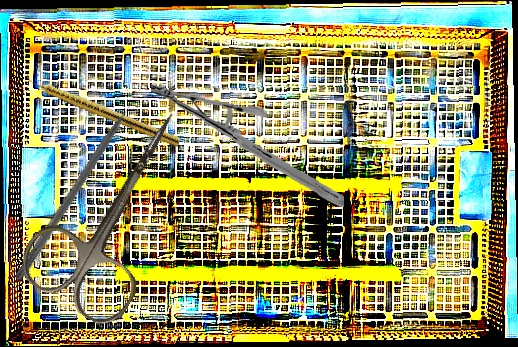Handpiece: (22, 72, 183, 148)
Iris Scissors: (11, 84, 225, 333)
Needle Holder: (147, 82, 348, 208)
Pusher: (13, 84, 148, 284)
